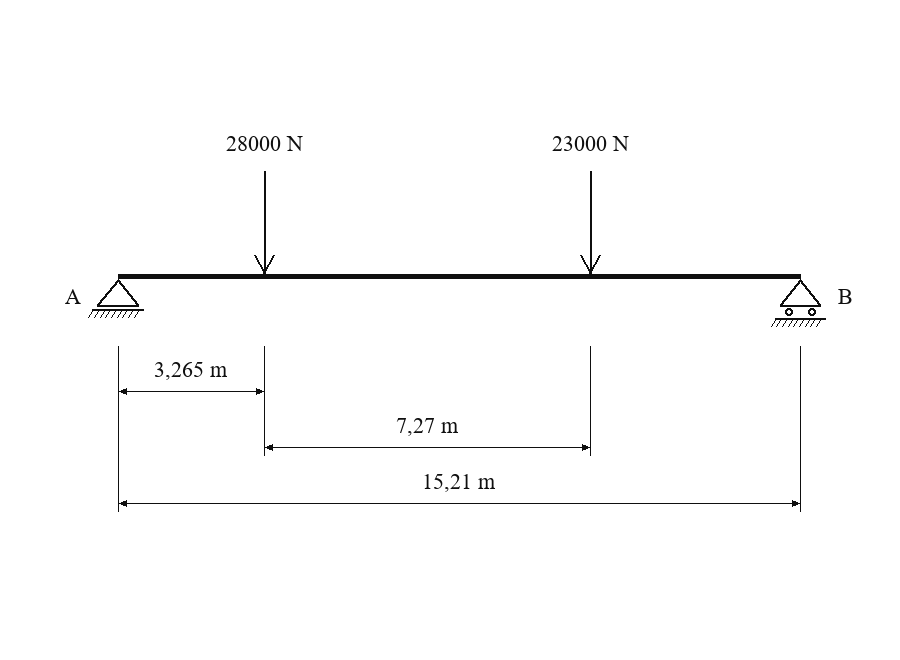pin_support: (88, 279, 144, 318)
point_load: (254, 171, 275, 274), (580, 171, 601, 274)
roller_support: (771, 279, 826, 327)
